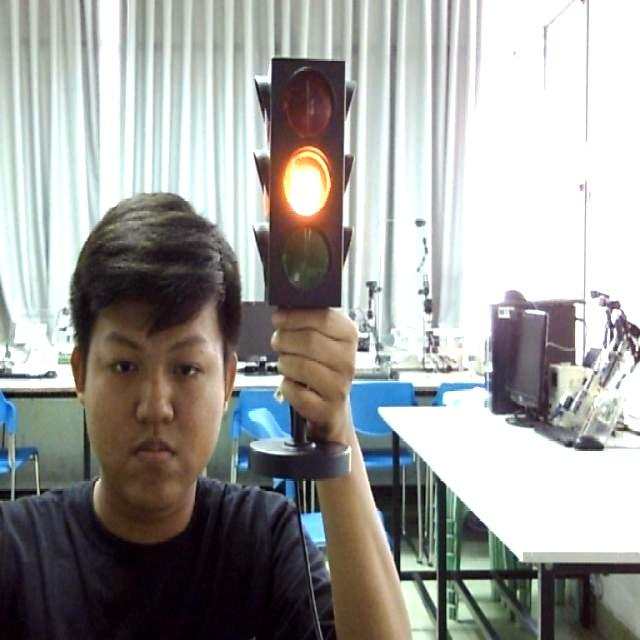Yellow: (255, 50, 366, 312)
